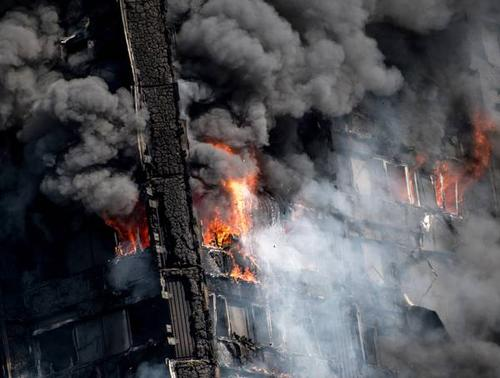fire: (184, 140, 277, 291)
smoke: (6, 22, 139, 208)
smoke1: (177, 6, 405, 114)
